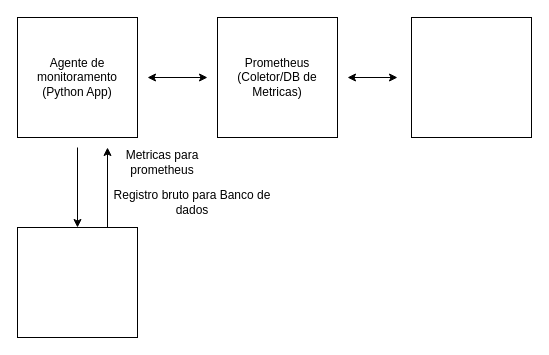
This 549x355 diagram has some shape labels left out. The shapes that lost their labels are listed below. From the top down, each one's box as (x1, y1, x2, y2) in pixels, then its label:
(410, 16, 532, 138): Grafana (Visualizacao)
(16, 226, 138, 338): Mongo DB
